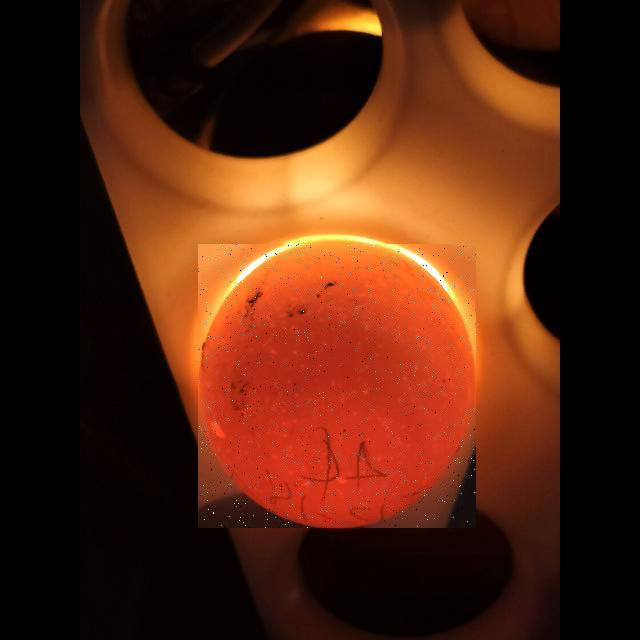Infertile: (198, 244, 476, 528)
